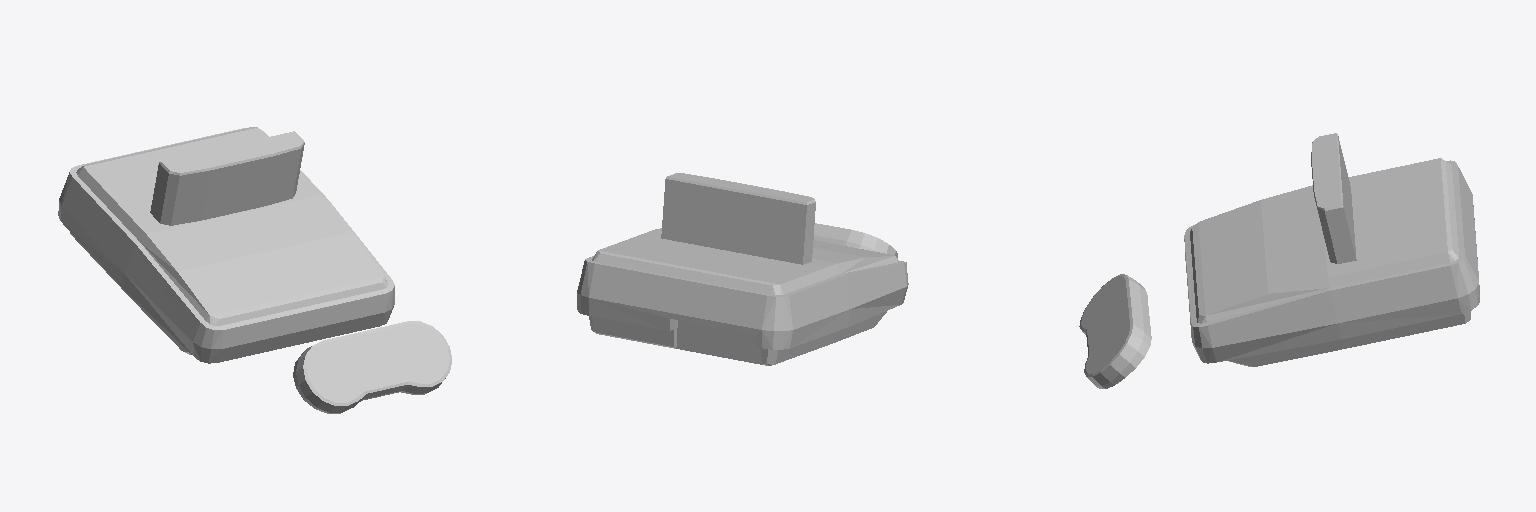
File: EUR_EN.OBJ
3 views of the same model, side by side, from view 1: azimuth 30°, elevation 25°; view 2: azimuth 150°, elevation 25°; view 3: azimuth 270°, elevation 25° (orthographic).
Parts seen in each view (by area): view 1: Group16660; view 2: Group16660; view 3: Group16660.
Part boxes in pixels (left/top/right/bottom): Group16660: left=58, top=127, right=451, bottom=413; Group16660: left=577, top=173, right=908, bottom=365; Group16660: left=1079, top=133, right=1479, bottom=388.
Bounding box in the file's own units: 12.1 × 9.51 × 19.11.